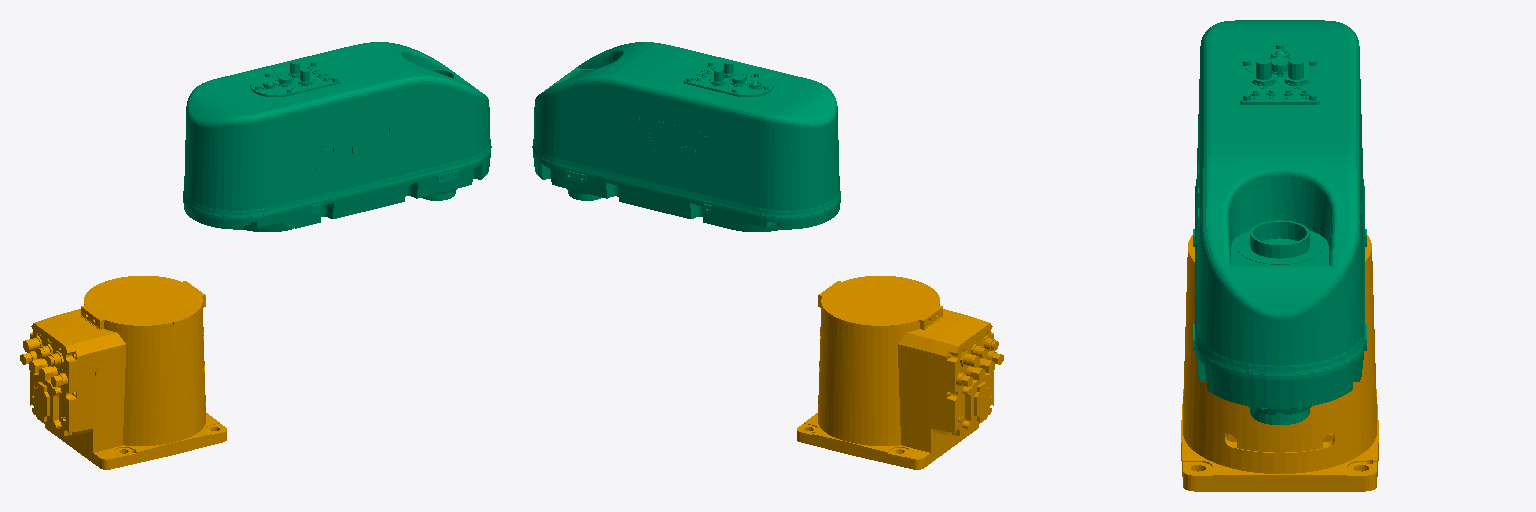
The robot description file, URDF, robot "(Unsaved)":
<?xml version="1.0" ?>
<robot name="(Unsaved)">

<link name="base_link">
  <inertial>
    <origin xyz="-0.025007128631782737 4.8316998944871165e-06 0.0942820943103721" rpy="0 0 0"/>
    <mass value="41.12593814105158"/>
    <inertia ixx="0.182723" iyy="0.263419" izz="0.209732" ixy="5.3e-05" iyz="2e-06" ixz="0.005906"/>
  </inertial>
  <visual>
    <origin xyz="0 0 0" rpy="0 0 0"/>
    <geometry>
      <mesh filename="package://(Unsaved)_description/meshes/base_link.stl" scale="0.001 0.001 0.001"/>
    </geometry>
    <material name="silver"/>
  </visual>
  <collision>
    <origin xyz="0 0 0" rpy="0 0 0"/>
    <geometry>
      <mesh filename="package://(Unsaved)_description/meshes/base_link.stl" scale="0.001 0.001 0.001"/>
    </geometry>
  </collision>
</link>

<link name="IRB920T_6kg-450-180-STD_OmniCore_rev00_LINK1_CAD_1">
  <inertial>
    <origin xyz="0.08115257258737836 4.78068739670782e-05 0.0457660214106653" rpy="0 0 0"/>
    <mass value="25.677563367507343"/>
    <inertia ixx="0.05341" iyy="0.223323" izz="0.252796" ixy="1.4e-05" iyz="4.5e-05" ixz="-0.011896"/>
  </inertial>
  <visual>
    <origin xyz="0.00025 -2e-06 -0.1914" rpy="0 0 0"/>
    <geometry>
      <mesh filename="package://(Unsaved)_description/meshes/IRB920T_6kg-450-180-STD_OmniCore_rev00_LINK1_CAD_1.stl" scale="0.001 0.001 0.001"/>
    </geometry>
    <material name="silver"/>
  </visual>
  <collision>
    <origin xyz="0.00025 -2e-06 -0.1914" rpy="0 0 0"/>
    <geometry>
      <mesh filename="package://(Unsaved)_description/meshes/IRB920T_6kg-450-180-STD_OmniCore_rev00_LINK1_CAD_1.stl" scale="0.001 0.001 0.001"/>
    </geometry>
  </collision>
</link>

<link name="IRB920T_6kg-450-180-STD_OmniCore_rev00_LINK2_CAD_1">
  <inertial>
    <origin xyz="0.097869480002094 2.829652201639198e-06 0.08518139176786854" rpy="0 0 0"/>
    <mass value="75.7740500377449"/>
    <inertia ixx="0.309324" iyy="1.206997" izz="1.132455" ixy="1.3e-05" iyz="1.8e-05" ixz="0.072377"/>
  </inertial>
  <visual>
    <origin xyz="-0.191498 -0.0 -0.2785" rpy="0 0 0"/>
    <geometry>
      <mesh filename="package://(Unsaved)_description/meshes/IRB920T_6kg-450-180-STD_OmniCore_rev00_LINK2_CAD_1.stl" scale="0.001 0.001 0.001"/>
    </geometry>
    <material name="silver"/>
  </visual>
  <collision>
    <origin xyz="-0.191498 -0.0 -0.2785" rpy="0 0 0"/>
    <geometry>
      <mesh filename="package://(Unsaved)_description/meshes/IRB920T_6kg-450-180-STD_OmniCore_rev00_LINK2_CAD_1.stl" scale="0.001 0.001 0.001"/>
    </geometry>
  </collision>
</link>

<link name="IRB920T_6kg-450-180-STD_OmniCore_rev00_LINK3_CAD_1">
  <inertial>
    <origin xyz="-7.554934788289724e-05 -7.453270582378933e-05 -0.1760046819511616" rpy="0 0 0"/>
    <mass value="0.6594614836495646"/>
    <inertia ixx="0.011651" iyy="0.011651" izz="7.7e-05" ixy="1e-06" iyz="-0.0" ixz="1e-06"/>
  </inertial>
  <visual>
    <origin xyz="-0.45 0.0 -0.5835" rpy="0 0 0"/>
    <geometry>
      <mesh filename="package://(Unsaved)_description/meshes/IRB920T_6kg-450-180-STD_OmniCore_rev00_LINK3_CAD_1.stl" scale="0.001 0.001 0.001"/>
    </geometry>
    <material name="silver"/>
  </visual>
  <collision>
    <origin xyz="-0.45 0.0 -0.5835" rpy="0 0 0"/>
    <geometry>
      <mesh filename="package://(Unsaved)_description/meshes/IRB920T_6kg-450-180-STD_OmniCore_rev00_LINK3_CAD_1.stl" scale="0.001 0.001 0.001"/>
    </geometry>
  </collision>
</link>

<joint name="Revolute 1" type="continuous">
  <origin xyz="-0.00025 2e-06 0.1914" rpy="0 0 0"/>
  <parent link="base_link"/>
  <child link="IRB920T_6kg-450-180-STD_OmniCore_rev00_LINK1_CAD_1"/>
  <axis xyz="0.0 0.0 1.0"/>
</joint>

<joint name="Revolute 2" type="continuous">
  <origin xyz="0.191748 -2e-06 0.0871" rpy="0 0 0"/>
  <parent link="IRB920T_6kg-450-180-STD_OmniCore_rev00_LINK1_CAD_1"/>
  <child link="IRB920T_6kg-450-180-STD_OmniCore_rev00_LINK2_CAD_1"/>
  <axis xyz="0.0 0.0 1.0"/>
</joint>

<joint name="Slider 3" type="prismatic">
  <origin xyz="0.258502 -0.0 0.305" rpy="0 0 0"/>
  <parent link="IRB920T_6kg-450-180-STD_OmniCore_rev00_LINK2_CAD_1"/>
  <child link="IRB920T_6kg-450-180-STD_OmniCore_rev00_LINK3_CAD_1"/>
  <axis xyz="0.0 0.0 1.0"/>
  <limit upper="0.0" lower="-0.1" effort="100" velocity="100"/>
</joint>

</robot>

--- Render facts (derived) ---
Views: 3 orthographic renders of the robot side by side, from view 1: azimuth 30°, elevation 25°; view 2: azimuth 150°, elevation 25°; view 3: azimuth 270°, elevation 25°.
Model (Unsaved) with 4 links and 3 joints (2 continuous, 1 prismatic), rooted at base_link, posed every joint at zero.
Visible links, largest first — view 1: IRB920T_6kg-450-180-STD_OmniCore_rev00_LINK2_CAD_1, base_link; view 2: IRB920T_6kg-450-180-STD_OmniCore_rev00_LINK2_CAD_1, base_link; view 3: IRB920T_6kg-450-180-STD_OmniCore_rev00_LINK2_CAD_1, base_link.
Link boxes in pixels (<box>): IRB920T_6kg-450-180-STD_OmniCore_rev00_LINK2_CAD_1: <box>183,42,491,231</box>; base_link: <box>20,276,226,469</box>; IRB920T_6kg-450-180-STD_OmniCore_rev00_LINK2_CAD_1: <box>532,42,840,231</box>; base_link: <box>797,276,1003,469</box>; IRB920T_6kg-450-180-STD_OmniCore_rev00_LINK2_CAD_1: <box>1193,20,1366,424</box>; base_link: <box>1181,235,1378,491</box>.
Bounding box of the posed robot: 0.687 × 0.17 × 0.4797 m (x, y, z).
Meshes: 4 distinct files referenced, 2 mesh visuals loaded (2 binary STL); not drawn: 2 (reference not matched to a file when rendering).